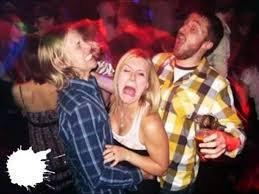Drunk: (61, 30, 97, 70), (173, 16, 203, 58), (121, 56, 147, 102)
